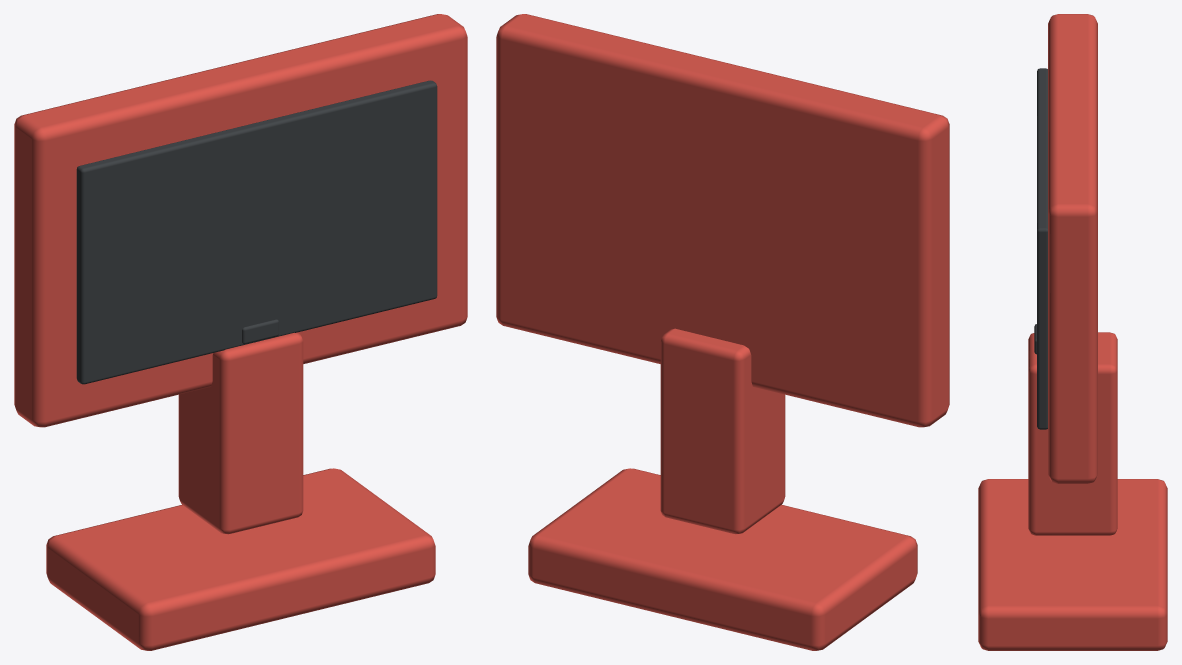
The model's file is school-monitor.glb.
3 renders of one model, left to right at view 1: azimuth 30°, elevation 25°; view 2: azimuth 150°, elevation 25°; view 3: azimuth 270°, elevation 25°, orthographic. The views are drawn at different scales.
Parts seen in each view (by area): view 1: monitor-display, monitor-frame, base, stand, power; view 2: monitor-frame, base, stand; view 3: base, monitor-frame, stand, monitor-display.
Boxes of the visible parts, bbox=[...] form: monitor-display: bbox=[76, 80, 437, 384]; monitor-frame: bbox=[14, 14, 467, 427]; base: bbox=[46, 468, 435, 650]; stand: bbox=[178, 332, 303, 534]; power: bbox=[242, 319, 278, 343]; monitor-frame: bbox=[496, 14, 949, 427]; base: bbox=[528, 468, 917, 650]; stand: bbox=[660, 328, 785, 534]; base: bbox=[978, 479, 1167, 650]; monitor-frame: bbox=[1048, 14, 1097, 483]; stand: bbox=[1028, 332, 1117, 535]; monitor-display: bbox=[1037, 68, 1047, 429].
Size of the model in its own units: 0.94 by 1.06 by 0.38.
